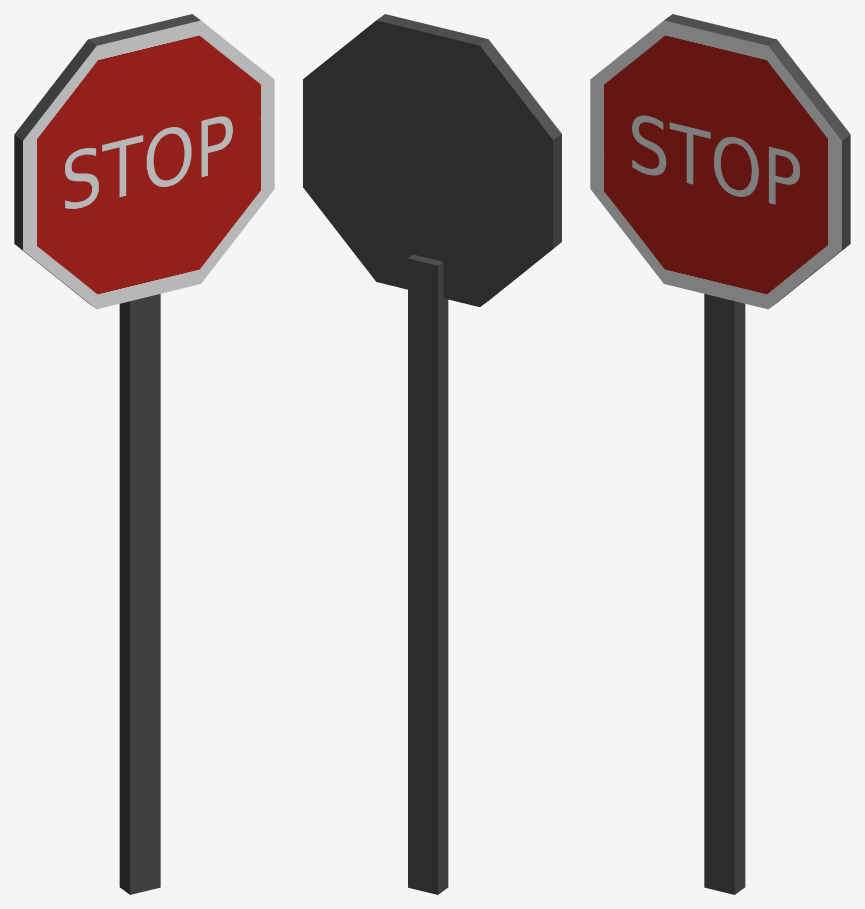
The model's file is traffic_sign_stop.glb.
3 renders of one model, left to right at view 1: azimuth 30°, elevation 25°; view 2: azimuth 150°, elevation 25°; view 3: azimuth 330°, elevation 25°, orthographic.
Parts seen in each view (by area): view 1: Circle, Plane; view 2: Circle, Plane; view 3: Circle, Plane.
Boxes of the visible parts, left/top/right/bottom form: Circle: left=14, top=14, right=274, bottom=309; Plane: left=119, top=294, right=160, bottom=894; Circle: left=303, top=14, right=561, bottom=306; Plane: left=408, top=254, right=448, bottom=894; Circle: left=590, top=14, right=850, bottom=309; Plane: left=704, top=294, right=745, bottom=894.
Size of what is drawn, in the model's own units: 0.8315 by 2.72 by 0.08.
Materials: 3 (1 with a texture image).
